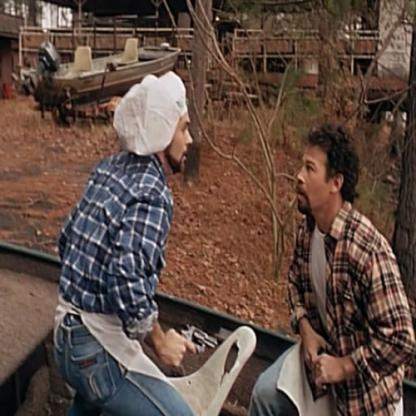Guns: (174, 320, 219, 370)
